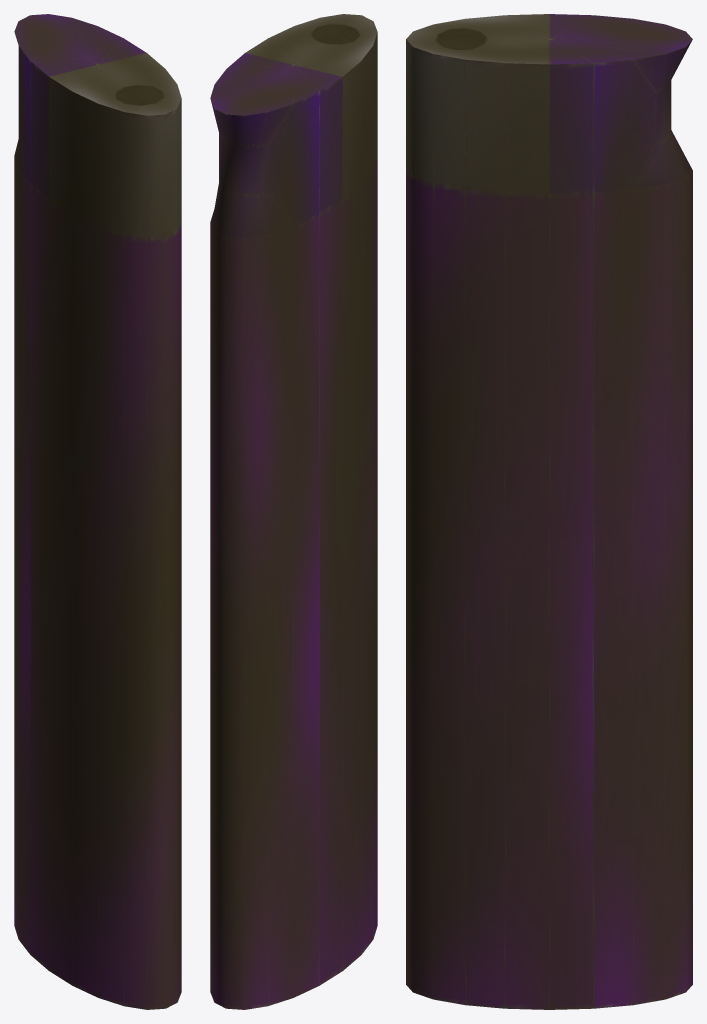
File: raita.fbx
3 renders of one model, left to right at view 1: azimuth 30°, elevation 25°; view 2: azimuth 150°, elevation 25°; view 3: azimuth 270°, elevation 25°, orthographic. The views are drawn at different scales.
Visible parts, largest first — view 1: pCylinder1; view 2: pCylinder1; view 3: pCylinder1.
Boxes of the visible parts, bbox=[...] form: pCylinder1: bbox=[14, 14, 181, 1009]; pCylinder1: bbox=[210, 14, 377, 1009]; pCylinder1: bbox=[406, 14, 692, 1009].
Bounding box in the file's own units: 1.43 × 12.52 × 3.44.
1 material, 1 textured.
